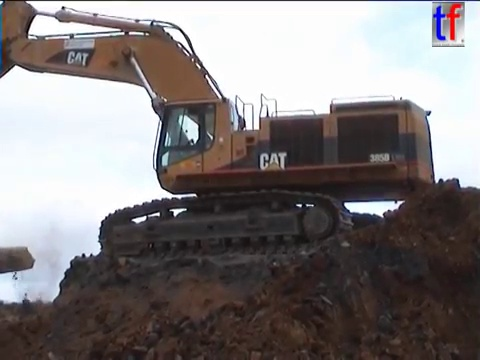excavator: (1, 1, 441, 268)
truck: (1, 243, 38, 277)
